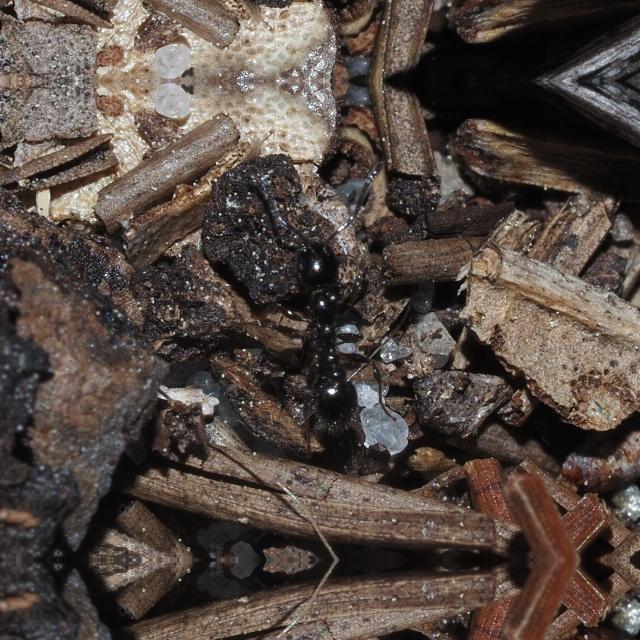Temnothorax: (252, 182, 398, 444)
